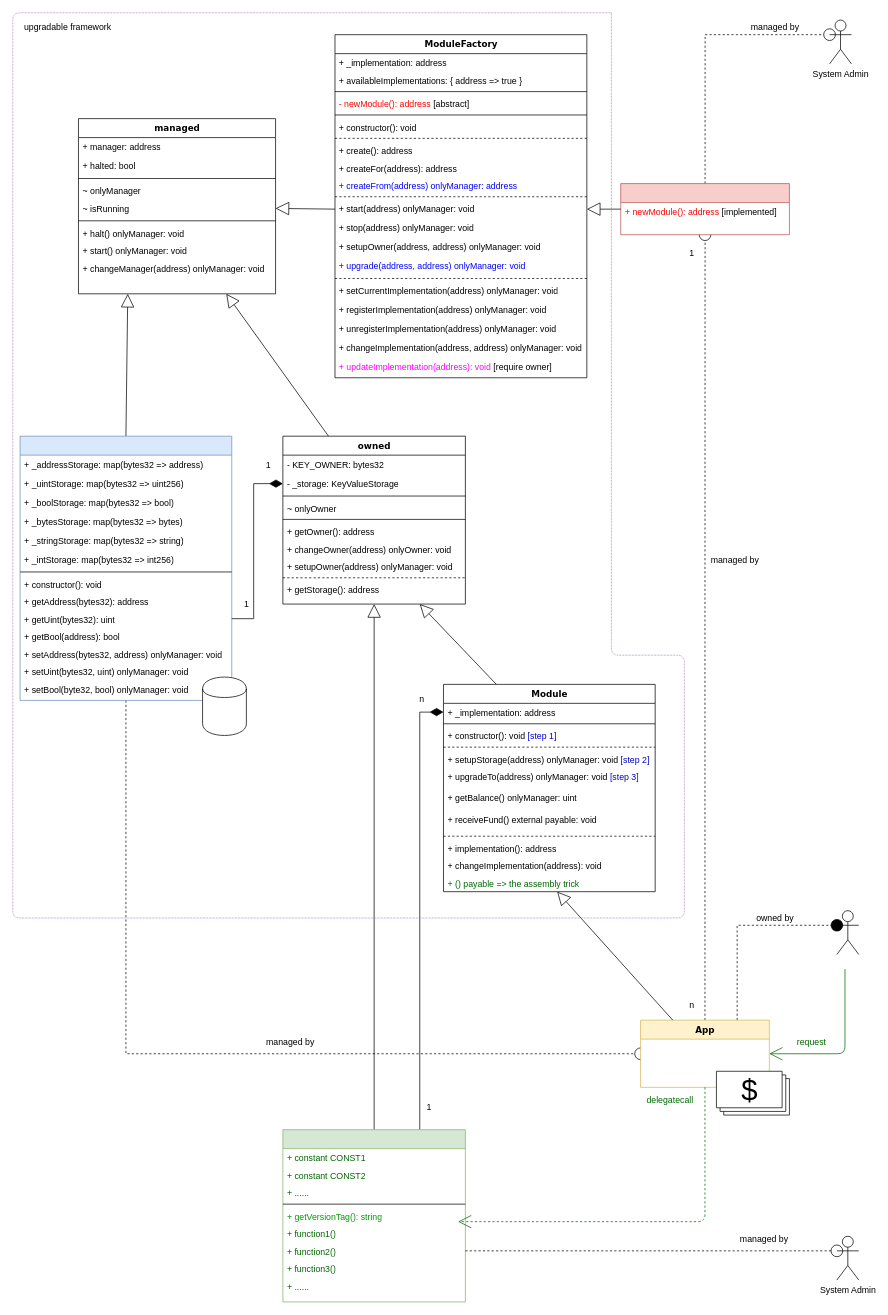
Image size: 888x1315. Some labels were removed from this diagram. The shapes that lost their labels are listed below. From the top down, each one's box as (x1, y1, x2, y2) in pixels, then its label:
(620, 183, 789, 235): AppFactory
(19, 435, 232, 700): KeyValueStorage
(836, 910, 859, 954): App User
(282, 1129, 465, 1302): AppImpl
